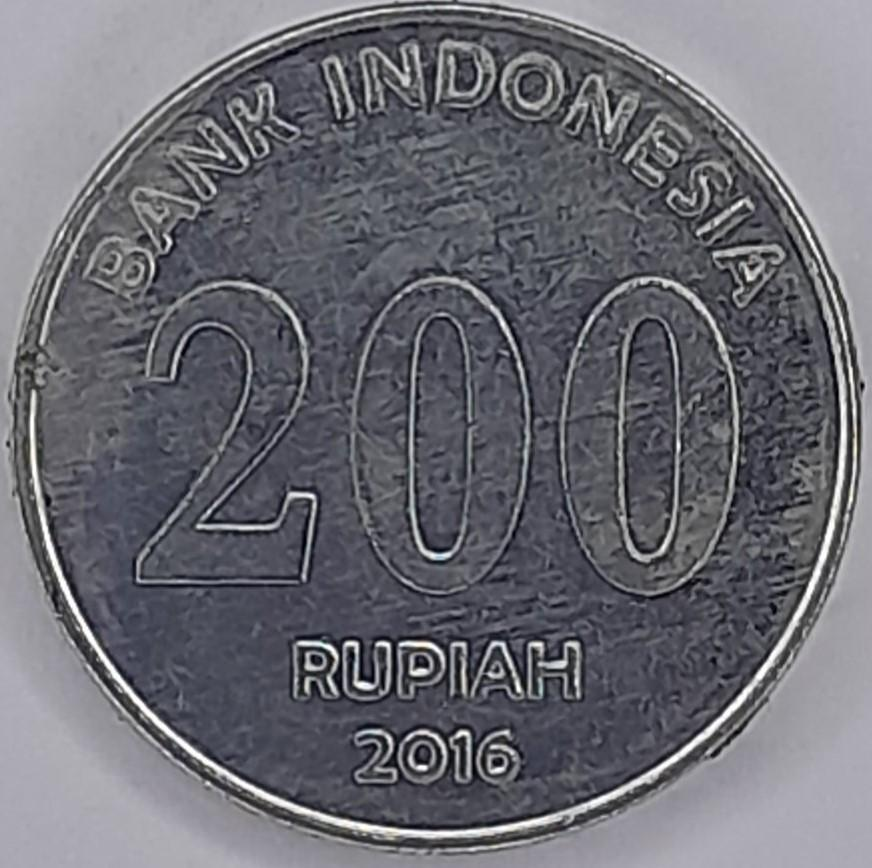coin_200_e2016: (0, 15, 872, 868)
